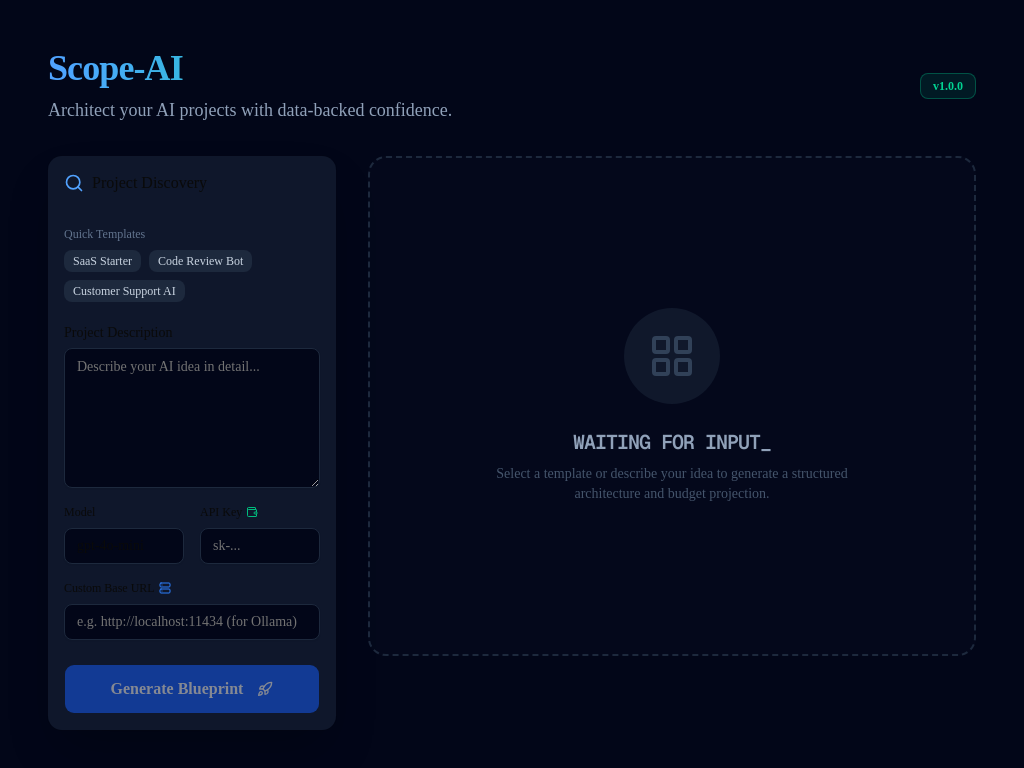
Test: Scope-AI Home Page › shows an error message when the backend is unreachable
Type "Test idea" into the text box with placeholder "Describe your AI idea in detail..." at (192, 418), box [64,348,320,488]
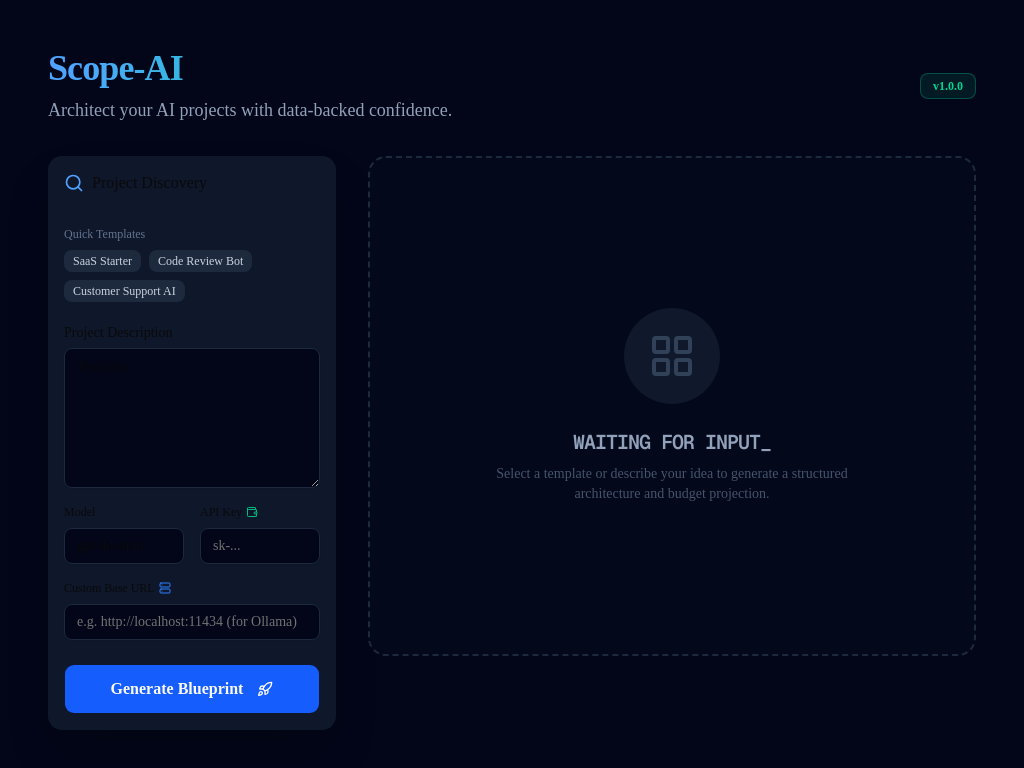
Click the button "Generate Blueprint" at (192, 689), box [64,664,320,714]
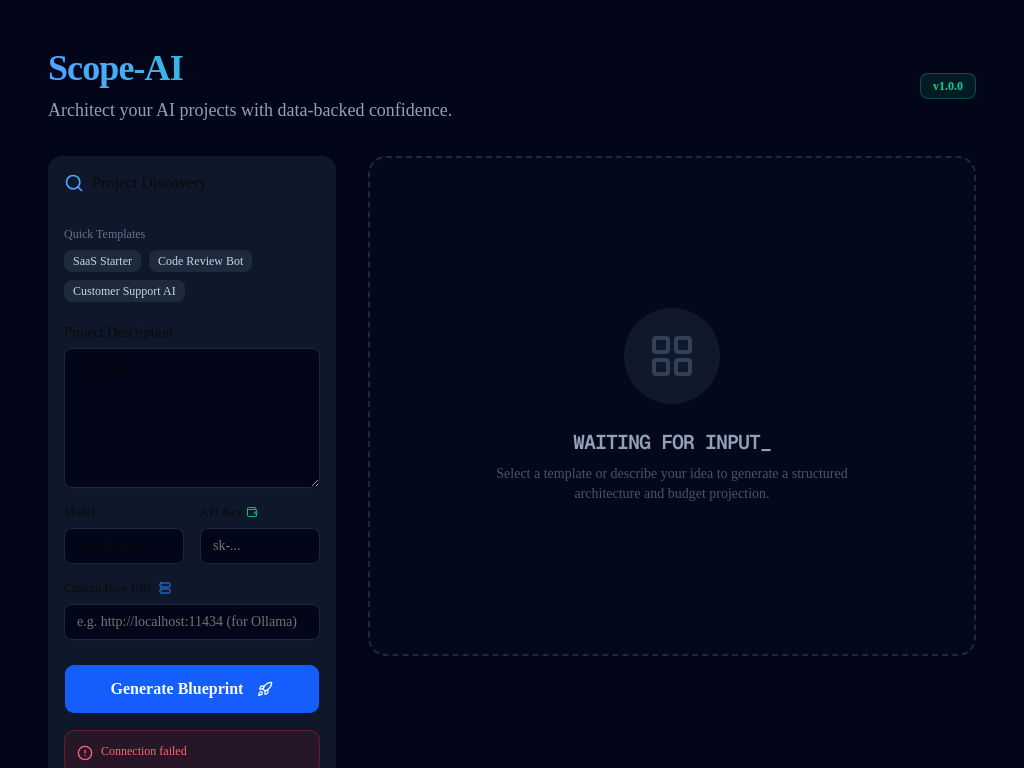
Expected: the text "Connection failed" is shown, [101,743,187,759]
